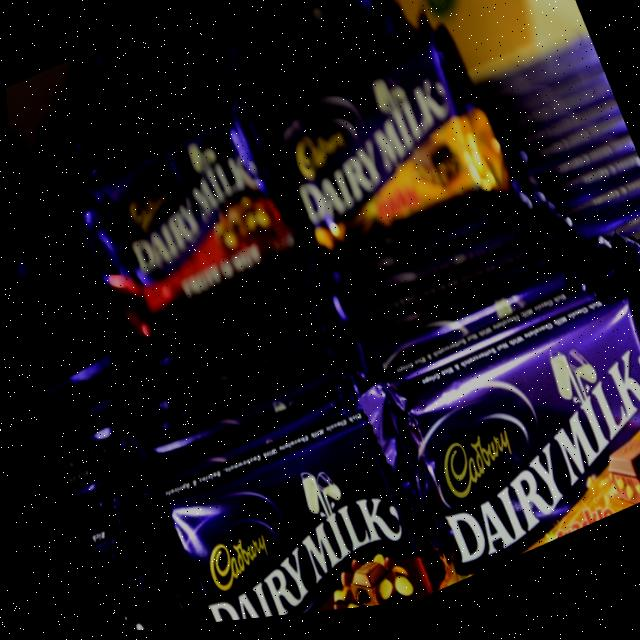cadbury: (336, 231, 640, 603), (78, 360, 450, 635)
kisses: (256, 31, 512, 270), (58, 105, 307, 340)
